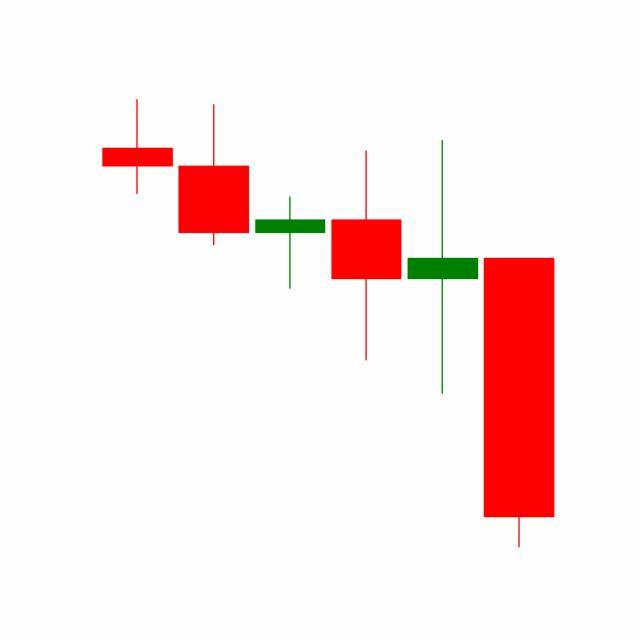Spinning Top: (404, 138, 482, 398)
